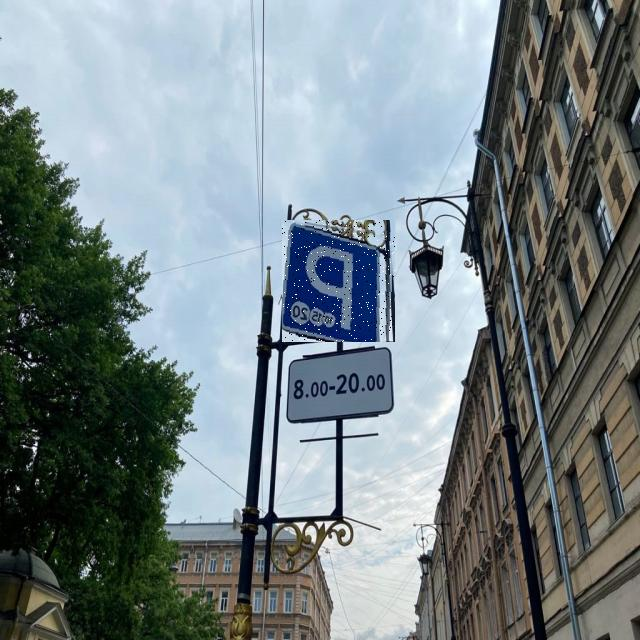parking: (282, 220, 395, 342)
